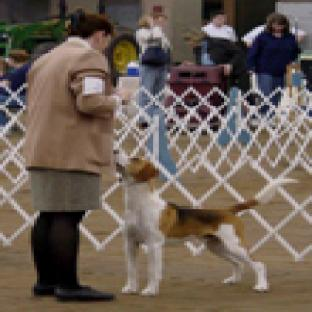Animal: (119, 154, 298, 293)
Human: (26, 10, 130, 300)
